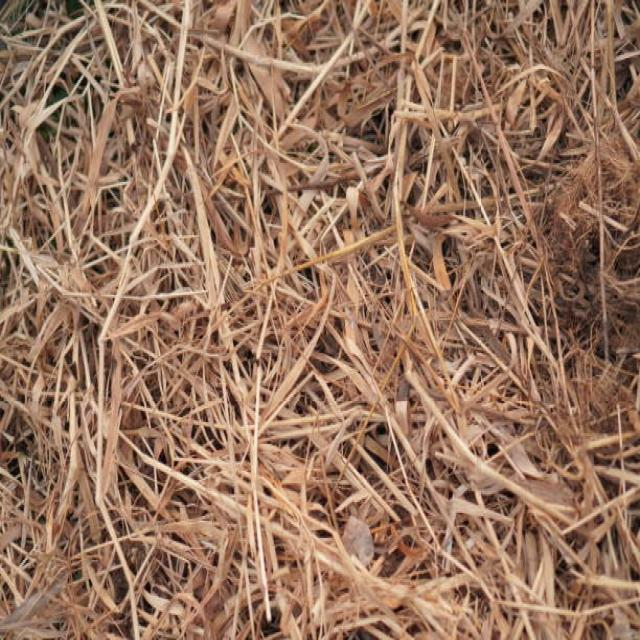paper: (126, 146, 290, 367), (414, 295, 520, 468), (562, 162, 637, 369), (223, 474, 327, 607)
